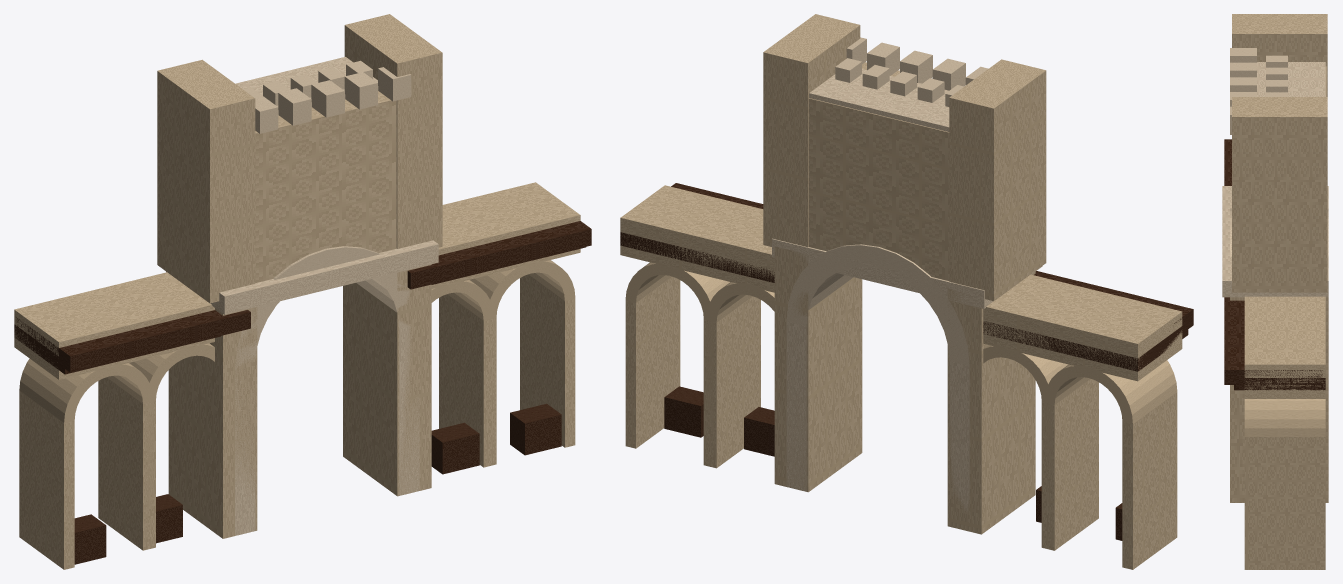
The model's file is Berber_market_age04_0_3_1_courtyard_kit.fbx.
3 views of the same model, side by side, from view 1: azimuth 30°, elevation 25°; view 2: azimuth 150°, elevation 25°; view 3: azimuth 270°, elevation 25° (orthographic). The views are drawn at different scales.
Parts seen in each view (by area): view 1: Portal left lookout tower, Portal upper mass, left courtyard arcade bay 1, Portal right buttress, Portal left buttress, Portal right lookout tower, right courtyard arcade bay 2, left continuous arcade parapet, right courtyard arcade bay 1, Portal deep horseshoe gate, right continuous arcade parapet, left pitched timber awning (+14 smaller); view 2: Portal left lookout tower, Portal upper mass, left courtyard arcade bay 1, Portal right buttress, left continuous arcade parapet, Portal left buttress, Portal deep horseshoe gate, Portal right lookout tower, right courtyard arcade bay 2, right continuous arcade parapet, right courtyard arcade bay 1, Imperial tile cornice (+10 smaller); view 3: Portal right lookout tower, right courtyard arcade bay 2, right continuous arcade parapet, Portal left lookout tower, Portal right buttress, right pitched timber awning, Imperial tile cornice, Gate carved lintel, right cedar shade beam, Portal crenellation 2, Portal crenellation 1, Portal crenellation 3 (+5 smaller).
Part boxes in pixels (x1,y1,x2,y2): Portal left lookout tower: (157, 59, 255, 303); Portal upper mass: (255, 91, 396, 282); left courtyard arcade bay 1: (19, 358, 153, 569); Portal right buttress: (343, 264, 431, 496); Portal left buttress: (168, 307, 257, 538); Portal right lookout tower: (344, 14, 442, 248); right courtyard arcade bay 2: (470, 260, 575, 464); left continuous arcade parapet: (14, 272, 214, 379); right courtyard arcade bay 1: (431, 280, 494, 467); Portal deep horseshoe gate: (235, 246, 419, 535); right continuous arcade parapet: (431, 182, 580, 288); left pitched timber awning: (16, 310, 250, 372); Portal left lookout tower: (949, 59, 1046, 301); Portal upper mass: (808, 62, 949, 280); left courtyard arcade bay 1: (1044, 360, 1177, 569); Portal right buttress: (774, 246, 862, 492); left continuous arcade parapet: (983, 274, 1182, 381); Portal left buttress: (947, 272, 1035, 534); Portal deep horseshoe gate: (786, 244, 969, 513); Portal right lookout tower: (763, 14, 860, 247); right courtyard arcade bay 2: (625, 262, 729, 465); right continuous arcade parapet: (620, 185, 774, 292); right courtyard arcade bay 1: (706, 282, 774, 468); Imperial tile cornice: (809, 69, 949, 131); Portal right lookout tower: (1232, 97, 1327, 292); right courtyard arcade bay 2: (1244, 399, 1325, 569); right continuous arcade parapet: (1244, 296, 1325, 398); Portal left lookout tower: (1232, 14, 1327, 96); Portal right buttress: (1230, 297, 1328, 502); right pitched timber awning: (1224, 297, 1322, 384); Imperial tile cornice: (1257, 62, 1325, 96); Gate carved lintel: (1222, 186, 1328, 297); right cedar shade beam: (1234, 378, 1325, 390); Portal crenellation 2: (1230, 62, 1256, 77); Portal crenellation 1: (1230, 48, 1256, 62); Portal crenellation 3: (1230, 77, 1256, 91).
Size of the model in its own units: 565 by 447 by 110.
Materials: 3 (3 with a texture image).
